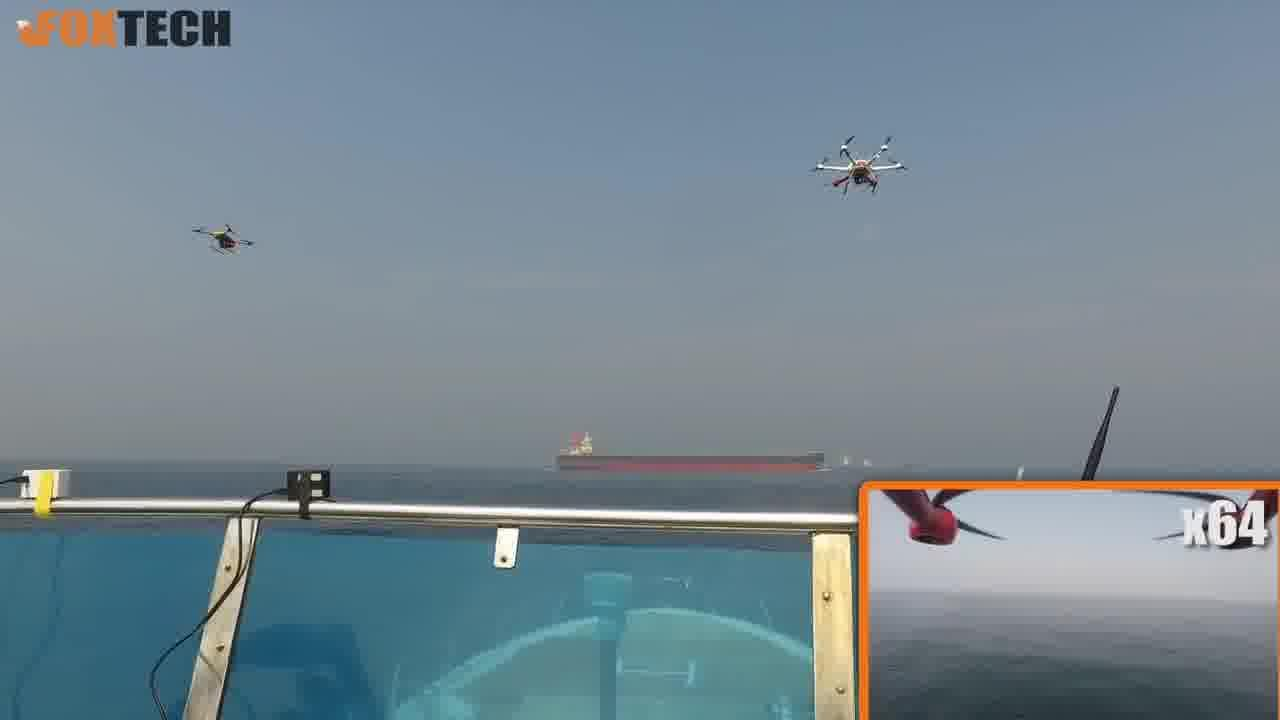drone: (808, 127, 915, 206), (189, 221, 260, 258)
